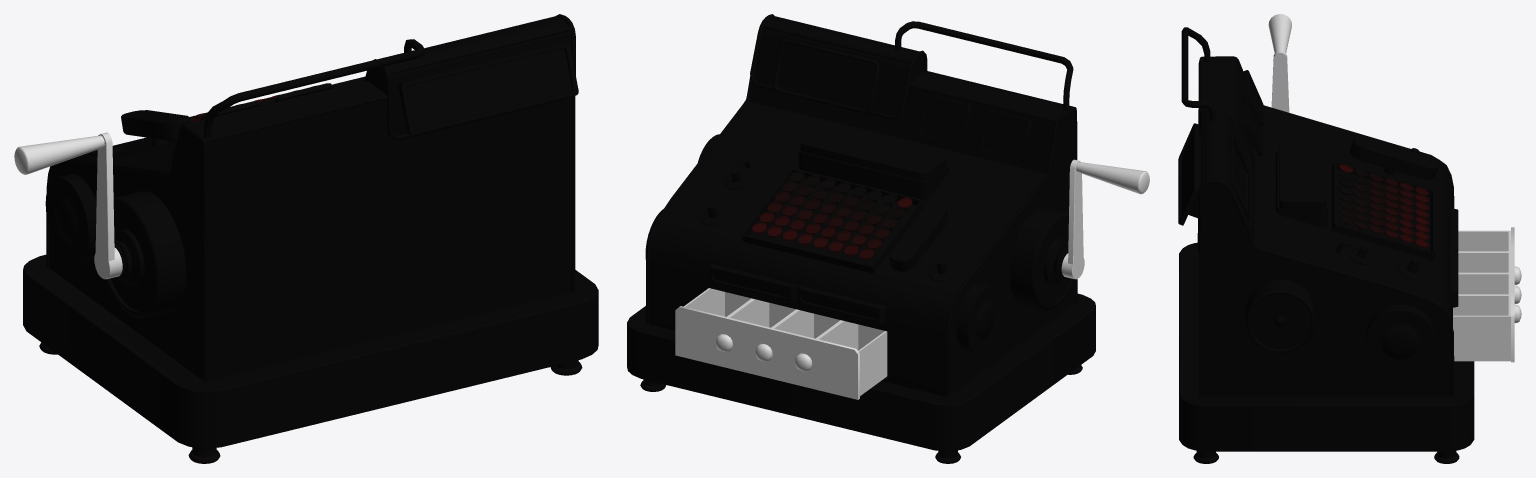
The model's file is cash register.fbx.
3 views of the same model, side by side, from view 1: azimuth 30°, elevation 25°; view 2: azimuth 150°, elevation 25°; view 3: azimuth 270°, elevation 25° (orthographic). The views are drawn at different scales.
Parts seen in each view (by area): view 1: main, handle; view 2: main, box, handle; view 3: main, box, handle.
Boxes of the visible parts, box(x1,y1,x2,y2) form: main: box(23, 14, 598, 463); handle: box(14, 132, 122, 279); main: box(627, 14, 1095, 463); box: box(675, 288, 887, 399); handle: box(1061, 159, 1149, 279); main: box(1178, 27, 1474, 463); box: box(1453, 227, 1521, 362); handle: box(1268, 14, 1291, 112).
Bounding box in the file's own units: 0.5699 × 0.3759 × 0.394.
